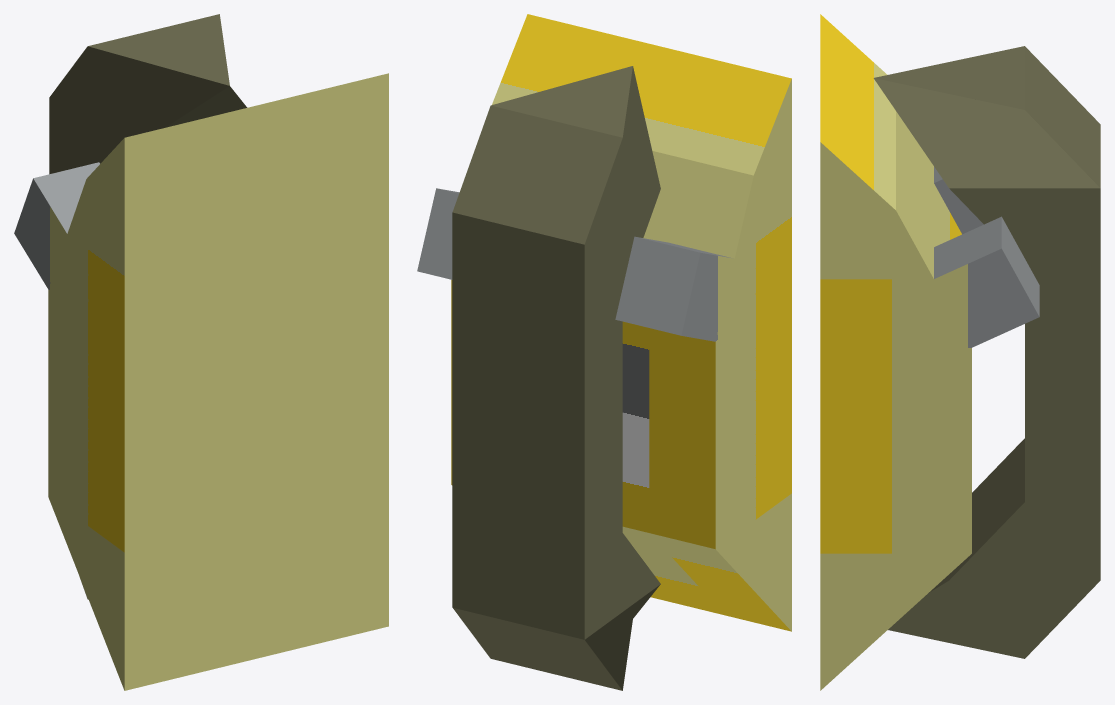
Rendered from WallPhone.gltf.
3 renders of one model, left to right at view 1: azimuth 30°, elevation 25°; view 2: azimuth 150°, elevation 25°; view 3: azimuth 270°, elevation 25°, orthographic.
Parts seen in each view (by area): view 1: wallbase, phone; view 2: phone, wallbase; view 3: wallbase, phone.
Part boxes in pixels (x1,y1,x2,y2): wallbase: (14, 73, 388, 690); phone: (49, 14, 247, 599); phone: (452, 66, 660, 690); wallbase: (417, 14, 791, 631); wallbase: (820, 14, 1039, 690); phone: (873, 46, 1100, 658).
Bounding box in the file's own units: 0.25 × 0.5 × 0.2312.
Materials: 2 (2 with a texture image).
